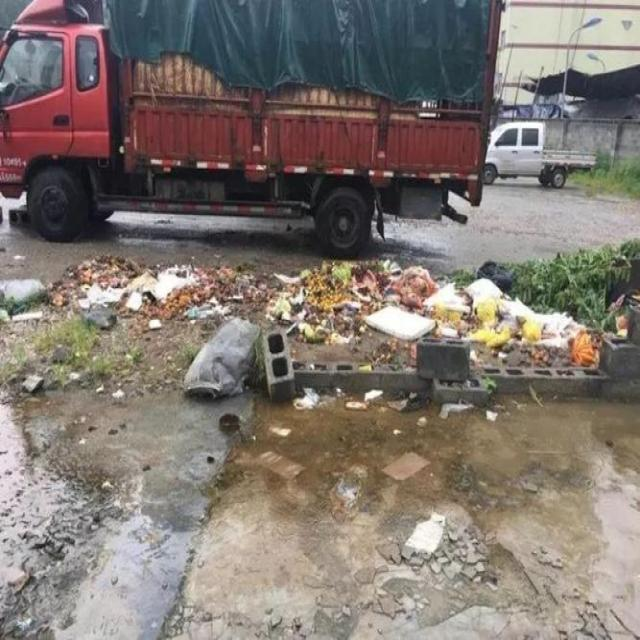garbage: (45, 254, 599, 368)
